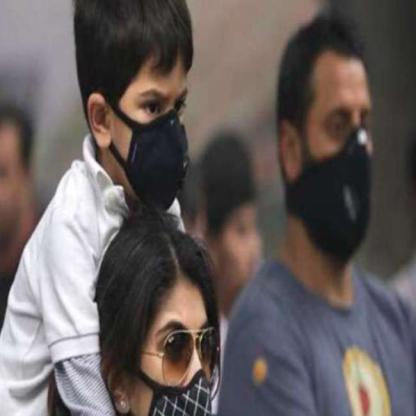Wearing_Mask: (273, 24, 389, 273), (73, 1, 206, 207), (109, 244, 222, 415)
